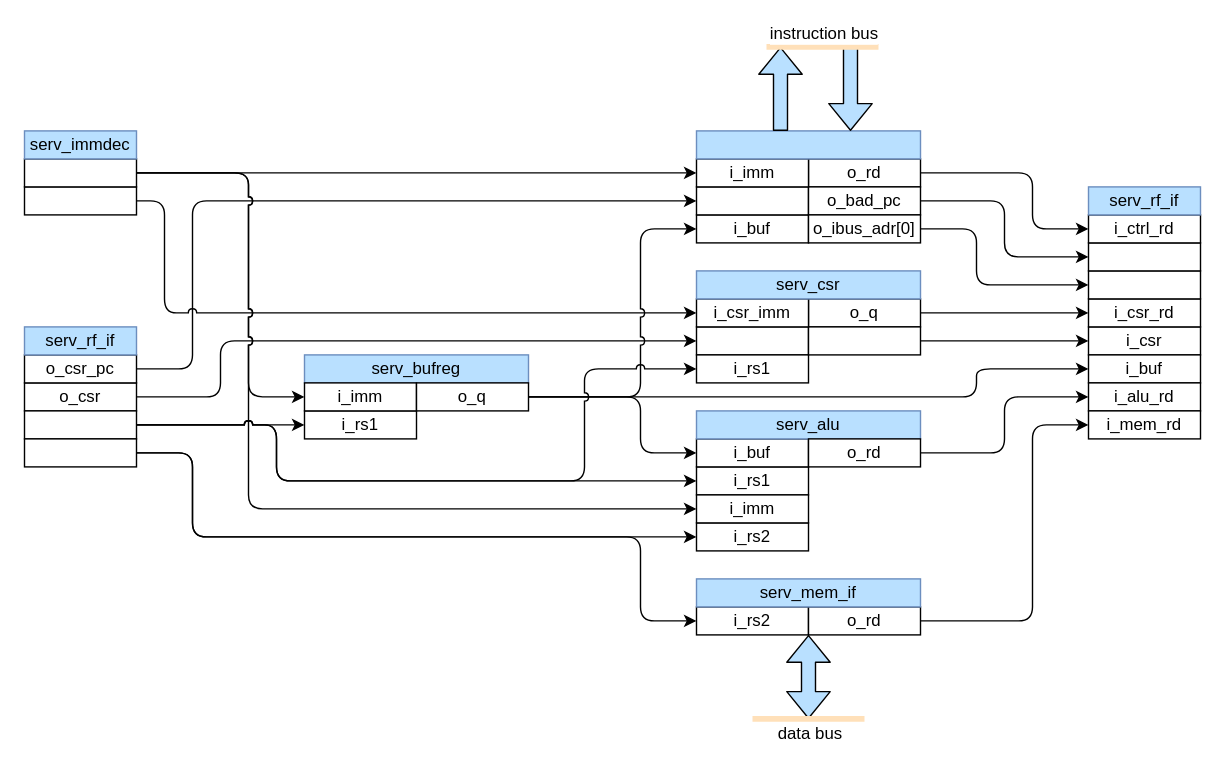
Some shapes in this 1225 by 767 pixel diagram are drawn without their labels. Here are the shapes that lost their labels. From the top down, the centre of each, then its label:
At (807,144): "serv_ctrl".
At (79,172): "o_imm".
At (79,200): "o_csr_imm".
At (751,200): "i_csr_pc".
At (1143,256): "i_bad_pc".
At (1143,284): "i_mepc".
At (751,340): "i_rf_csr_out".
At (863,340): "o_csr_in".
At (79,424): "o_rs1".
At (79,452): "o_rs2".
